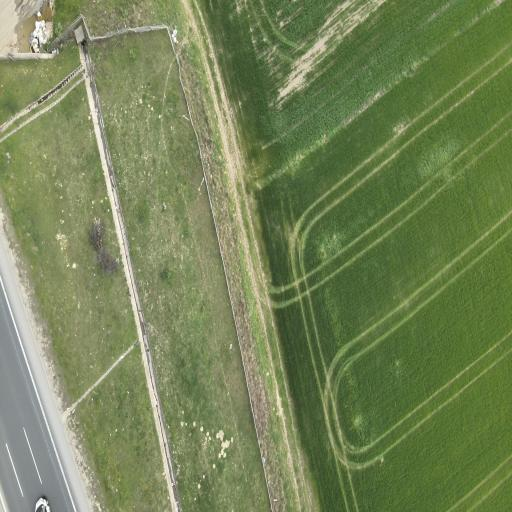car: (36, 497, 50, 511)
